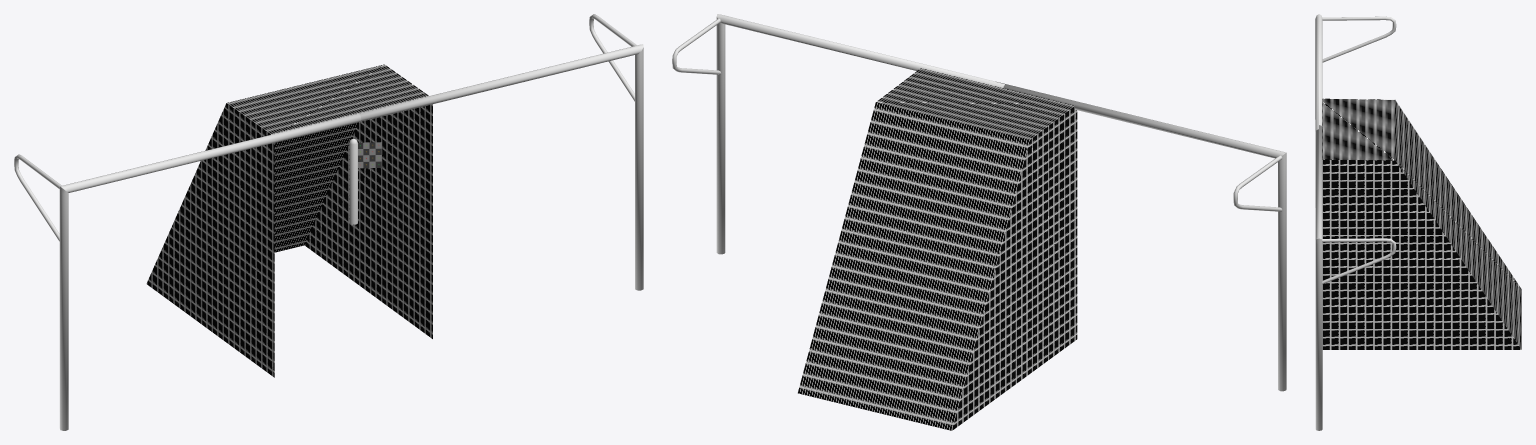
Rendered from pitch_models.glb.
3 renders of one model, left to right at view 1: azimuth 30°, elevation 25°; view 2: azimuth 150°, elevation 25°; view 3: azimuth 270°, elevation 25°, orthographic. The views are drawn at different scales.
Visible parts, largest first — view 1: net, goal-left, goal-right, flagpole, flag; view 2: net, goal-right, goal-left; view 3: net, goal-right, goal-left.
Boxes of the visible parts, x1,y1,x2,y2 form: net: (146,64,432,377); goal-left: (14,113,361,430); goal-right: (347,14,643,290); flagpole: (349,138,357,224); flag: (358,142,381,168); net: (798,68,1077,430); goal-right: (672,14,1004,254); goal-left: (995,81,1286,391); net: (1322,98,1521,349); goal-right: (1315,125,1396,430); goal-left: (1315,14,1396,207).
Bounding box in the file's own units: 7.37 × 2.94 × 2.86.
Materials: 3 (2 with a texture image).
